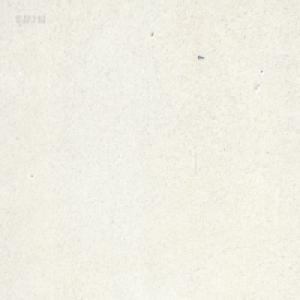Nail: (197, 54, 204, 59)
